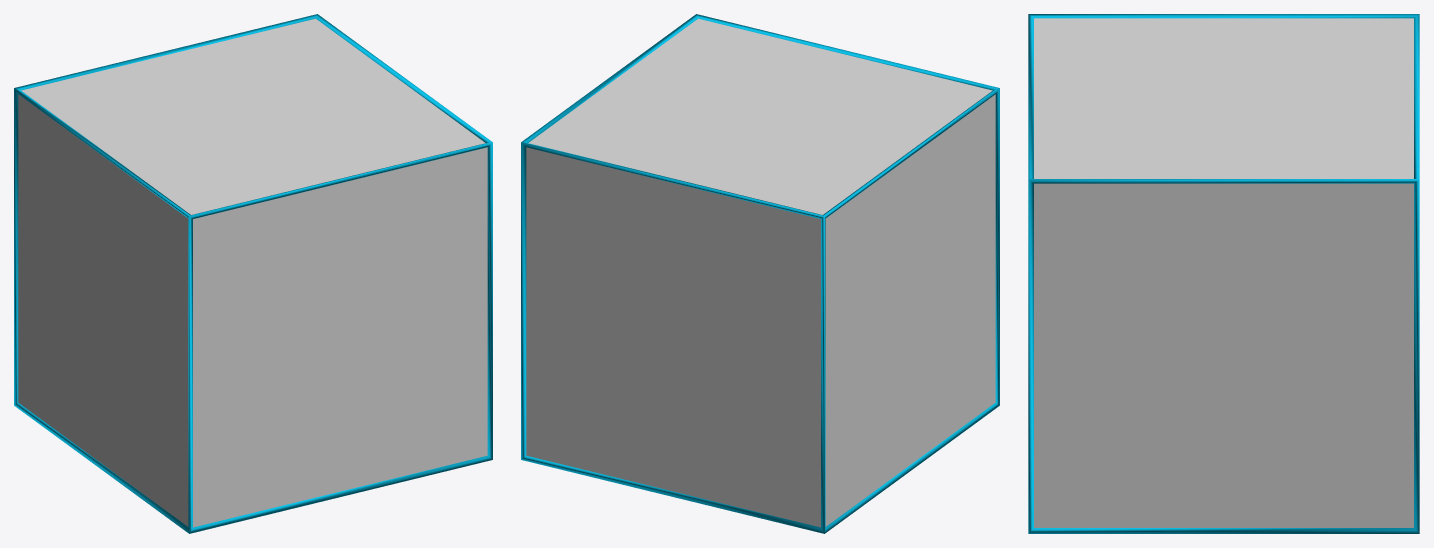
File: CubeInfTutoavecOutlines.fbx
The picture shows the model from 3 angles, left to right: view 1: azimuth 30°, elevation 25°; view 2: azimuth 150°, elevation 25°; view 3: azimuth 270°, elevation 25°; orthographic projection. The views are drawn at different scales.
Parts seen in each view (by area): view 1: Cube, Cube.001; view 2: Cube, Cube.001; view 3: Cube, Cube.001.
Part boxes in pixels (bbox=[...]): Cube: bbox=[18, 18, 487, 527]; Cube.001: bbox=[14, 14, 492, 533]; Cube: bbox=[526, 18, 995, 527]; Cube.001: bbox=[521, 14, 999, 533]; Cube: bbox=[1034, 18, 1413, 527]; Cube.001: bbox=[1028, 14, 1419, 533].
Bounding box in the file's own units: 809 × 809 × 809.
